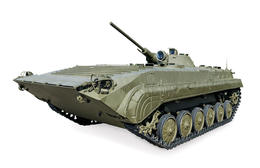bmp: (11, 13, 248, 146)
